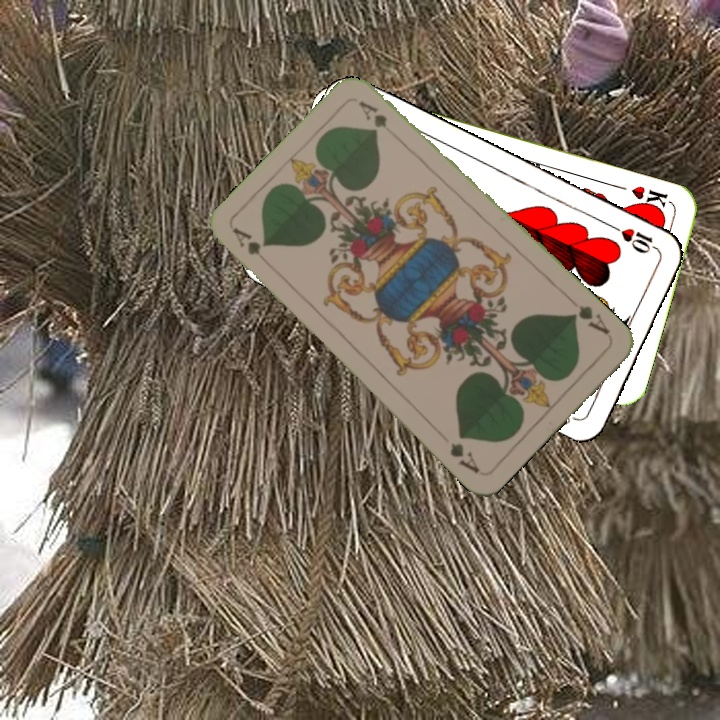GA: (228, 223, 276, 271), (566, 301, 613, 338)
H10: (607, 221, 662, 257)
HK: (627, 181, 674, 215)
